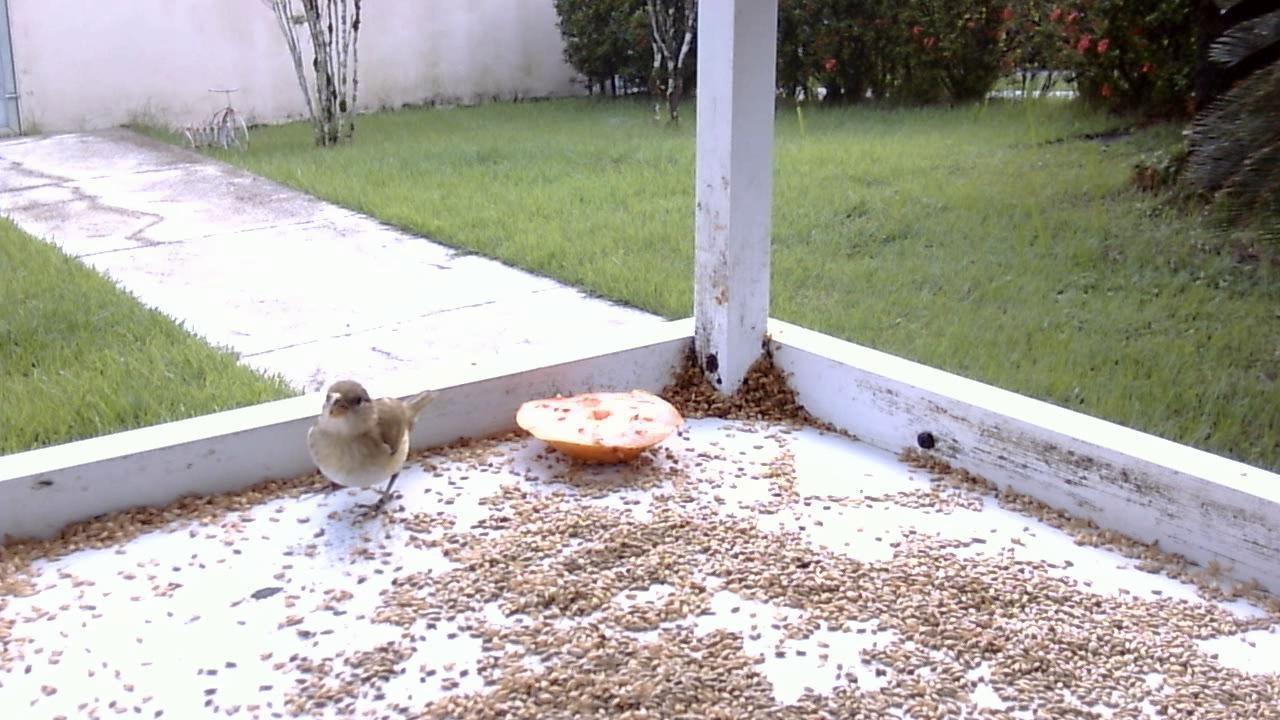canario_do_amazonas: (304, 370, 449, 521)
